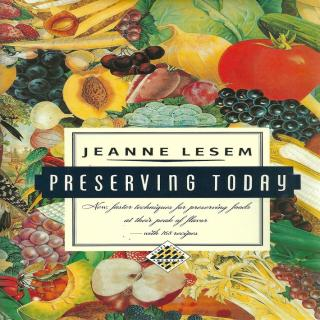tomato: (218, 28, 315, 90)
